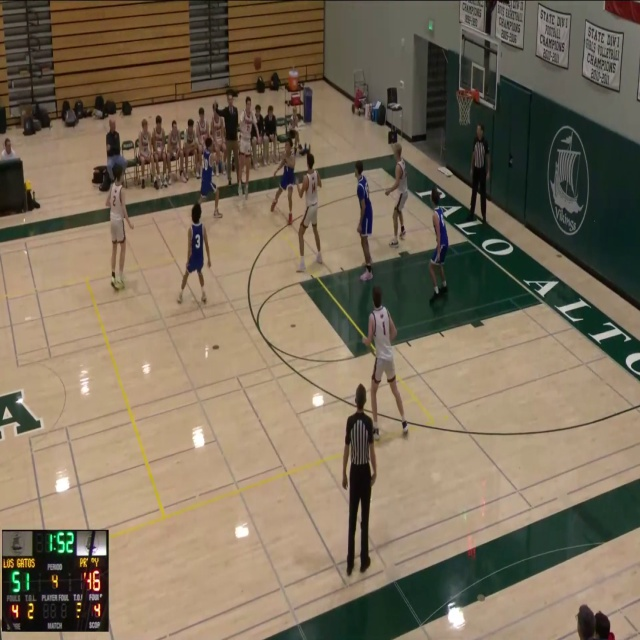Basketball: (254, 57, 261, 69)
